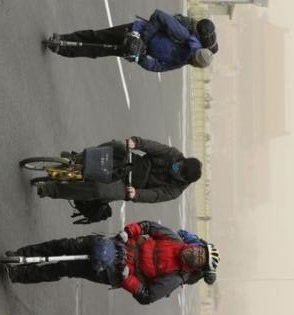person: (8, 225, 215, 304), (37, 134, 204, 207), (51, 12, 218, 75)
